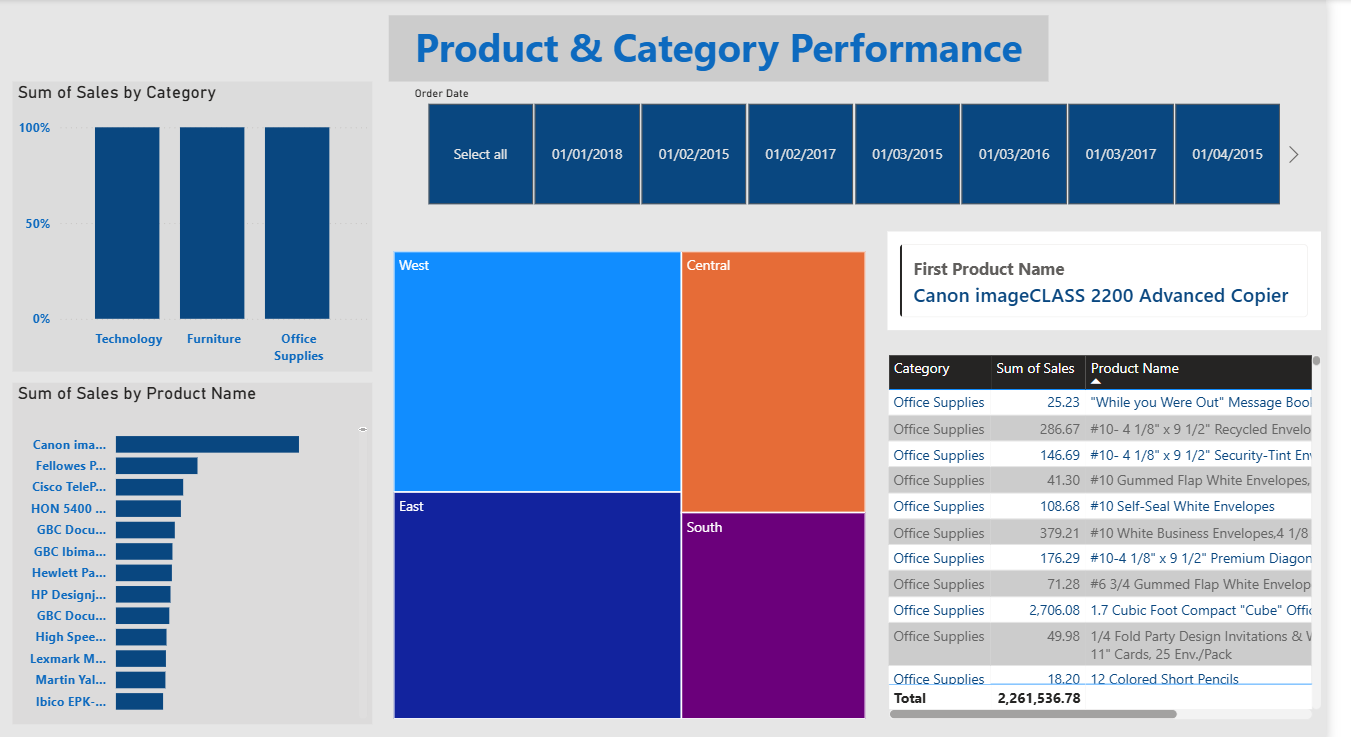

Layout of this report page (visuals, bound fields, positions):
{"tool":"powerbi","page":{"name":"Page 2","canvas":[1280,720],"ordinal":1},"visuals":[{"type":"hundredPercentStackedColumnChart","fields":{"Category":["train.Category"],"Y":["Sum(train.Sales)"]},"box":[12.1,79.6,347.3,280],"z":0},{"type":"clusteredBarChart","fields":{"Category":["train.Product Name"],"Y":["Sum(train.Sales)"]},"box":[12.1,370.4,347.5,329.4],"z":1000},{"type":"tableEx","fields":{"Values":["train.Category","Sum(train.Sales)","train.Product Name"]},"box":[851.7,339,428.3,360.7],"z":2000},{"type":"slicer","fields":{"Values":["train.Order Date"]},"box":[387.3,79.6,872.3,125.5],"z":3000},{"type":"treemap","fields":{"Values":["Sum(train.Sales)"],"Group":["train.Region"]},"box":[374.6,238.8,465.2,461.1],"z":4000},{"type":"cardVisual","fields":{"Data":["Min(train.Product Name)"]},"box":[851.7,219.6,428.1,105.7],"z":5000},{"type":"textbox","box":[375.2,15.7,637,63.9],"z":6000}]}

Visuals, with their boxes on the page's 1280x720 design canvas (x1, y1, x2, y2). These are canvas units, not pixel positions in the 1351x737 screenshot, which may show the page scaled, cropped or inside an application window:
hundredPercentStackedColumnChart - train.Category x Sum(train.Sales): <bbox>12, 80, 359, 360</bbox>
clusteredBarChart - train.Product Name x Sum(train.Sales): <bbox>12, 370, 360, 700</bbox>
tableEx - train.Category x Sum(train.Sales): <bbox>852, 339, 1280, 700</bbox>
slicer - train.Order Date: <bbox>387, 80, 1260, 205</bbox>
treemap - Sum(train.Sales) x train.Region: <bbox>375, 239, 840, 700</bbox>
cardVisual - Min(train.Product Name): <bbox>852, 220, 1280, 325</bbox>
textbox: <bbox>375, 16, 1012, 80</bbox>
